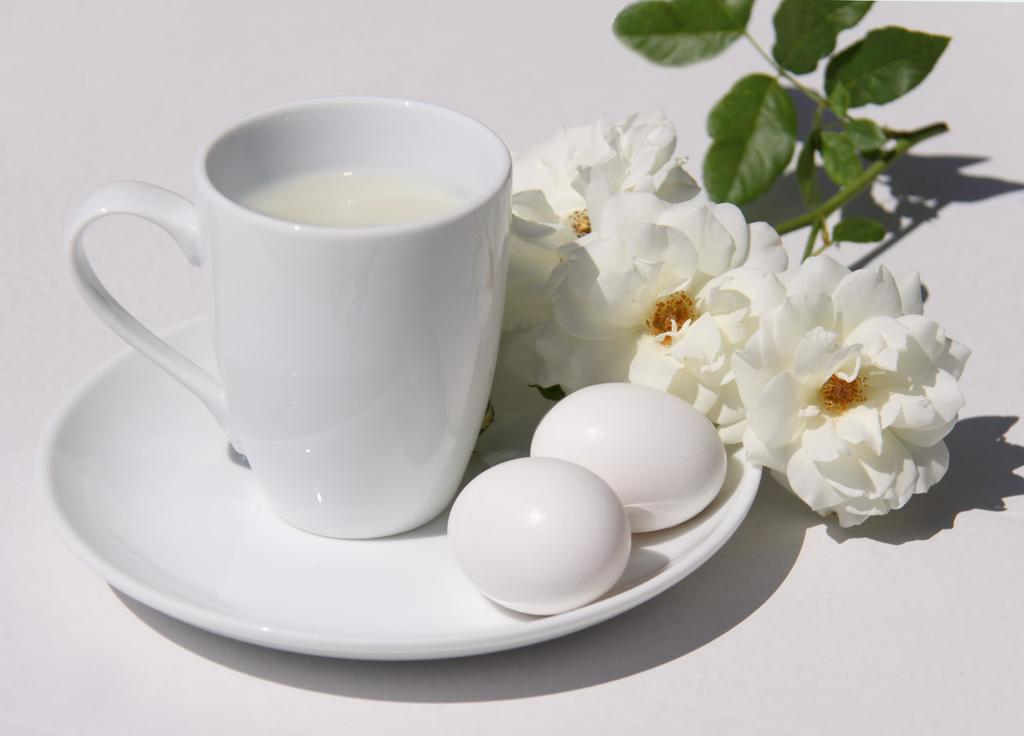plate: (33, 311, 759, 655)
